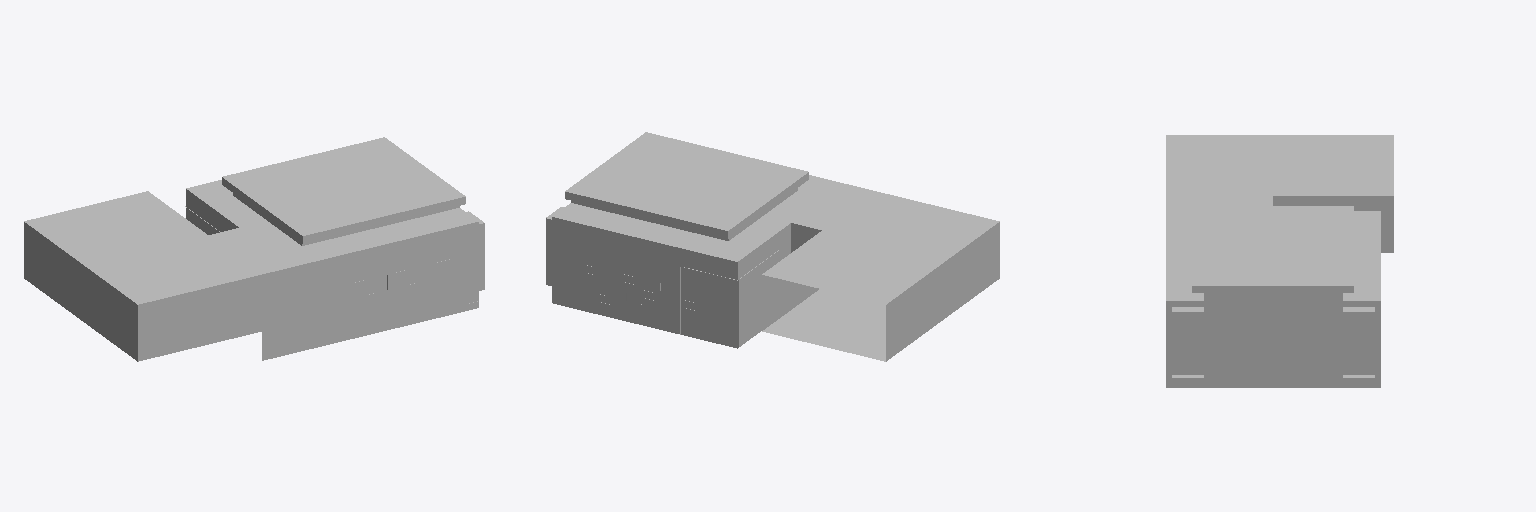
Rendered from hologram_VR_living_room.obj.
3 views of the same model, side by side, from view 1: azimuth 30°, elevation 25°; view 2: azimuth 150°, elevation 25°; view 3: azimuth 270°, elevation 25° (orthographic).
Parts seen in each view (by area): view 1: hologram_VR_livingroom; view 2: hologram_VR_livingroom; view 3: hologram_VR_livingroom.
Boxes of the visible parts, x1=… form: hologram_VR_livingroom: x1=24, y1=137, x2=484, y2=361; hologram_VR_livingroom: x1=546, y1=132, x2=999, y2=361; hologram_VR_livingroom: x1=1166, y1=135, x2=1393, y2=387.
Size of the model in its own units: 2996 by 838 by 1692.